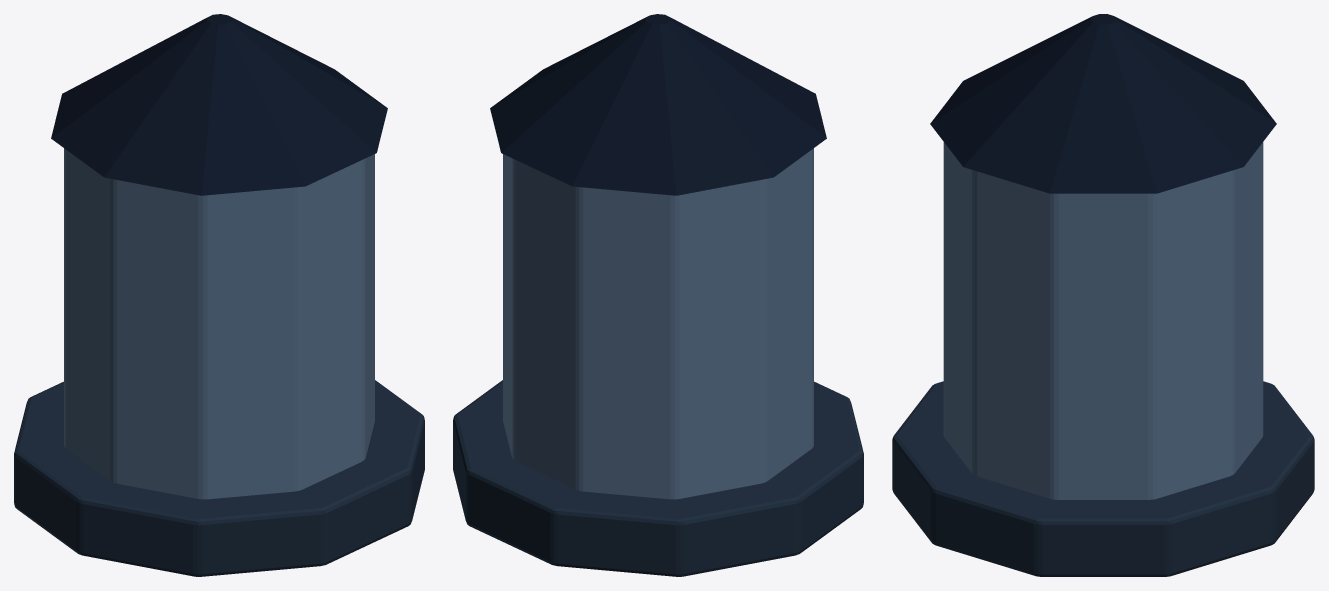
The model's file is command_resource_silo_lod1.obj.
3 renders of one model, left to right at view 1: azimuth 30°, elevation 25°; view 2: azimuth 150°, elevation 25°; view 3: azimuth 270°, elevation 25°, orthographic.
Visible parts, largest first — view 1: rts_silo_lod1_tank_M_steel, rts_silo_lod1_roof_M_navy, rts_silo_lod1_base_M_gunmetal; view 2: rts_silo_lod1_tank_M_steel, rts_silo_lod1_roof_M_navy, rts_silo_lod1_base_M_gunmetal; view 3: rts_silo_lod1_tank_M_steel, rts_silo_lod1_roof_M_navy, rts_silo_lod1_base_M_gunmetal.
Part boxes in pixels (<box>): rts_silo_lod1_tank_M_steel: <box>64,148,374,499</box>; rts_silo_lod1_roof_M_navy: <box>51,14,387,195</box>; rts_silo_lod1_base_M_gunmetal: <box>14,380,424,576</box>; rts_silo_lod1_tank_M_steel: <box>503,148,813,499</box>; rts_silo_lod1_roof_M_navy: <box>490,14,826,195</box>; rts_silo_lod1_base_M_gunmetal: <box>453,380,863,576</box>; rts_silo_lod1_tank_M_steel: <box>943,142,1263,499</box>; rts_silo_lod1_roof_M_navy: <box>930,14,1276,193</box>; rts_silo_lod1_base_M_gunmetal: <box>892,381,1314,576</box>.
Bounding box in the file's own units: 1.26 × 1.63 × 1.31.
